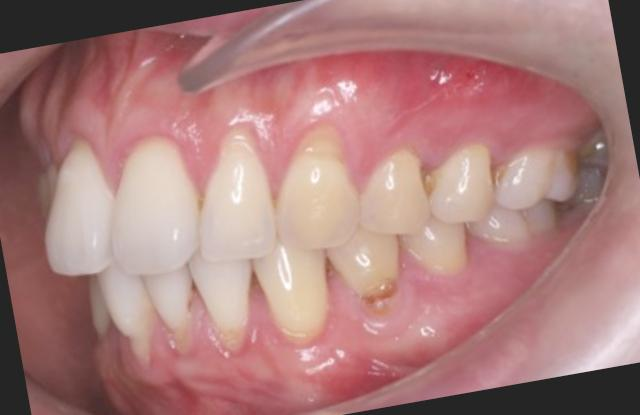canine class I: (230, 112, 412, 354)
molar class I: (458, 137, 593, 260)
